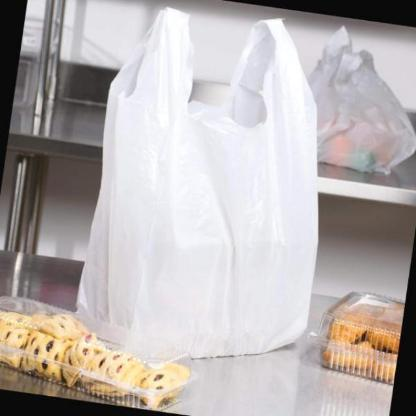Plastic Bag: (74, 7, 320, 361)
